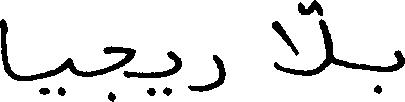X: (272, 0, 331, 80), (105, 41, 135, 101), (191, 50, 225, 96), (167, 46, 181, 100), (0, 14, 9, 80), (64, 53, 72, 99), (393, 45, 404, 75)
